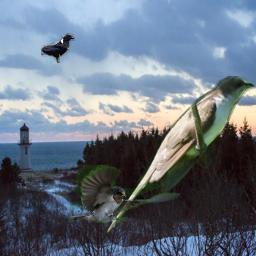Crow: (41, 33, 75, 63)
Cuckoo: (104, 76, 254, 236)
Swallow: (70, 165, 180, 223)
